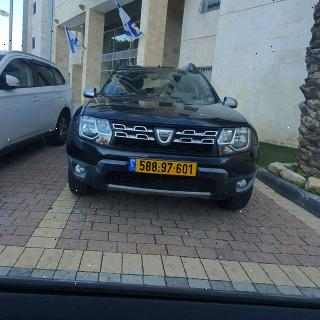LicensePlate: (136, 159, 197, 176)
